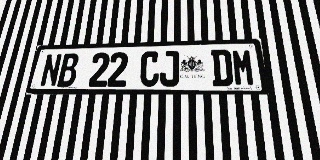2: (88, 52, 110, 87), (107, 52, 128, 87)
B: (57, 53, 80, 87)
C: (139, 51, 160, 87)
D: (211, 49, 234, 86)
J: (159, 51, 179, 86)
M: (231, 49, 256, 86)
N: (39, 54, 63, 87)
